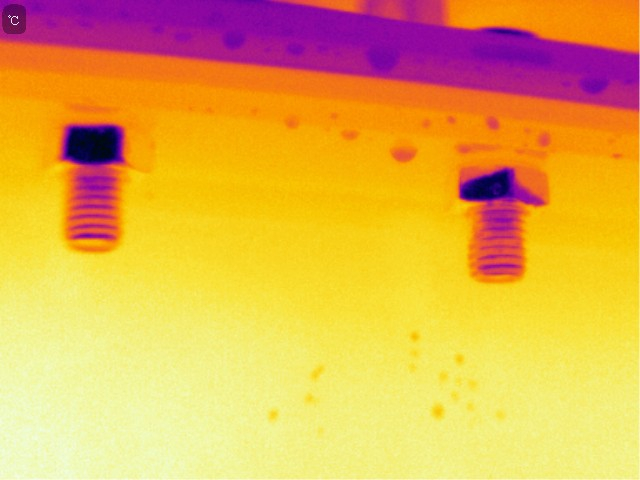Water: (367, 45, 406, 74), (576, 71, 613, 98), (385, 138, 418, 167), (218, 28, 248, 54), (279, 112, 307, 133), (337, 126, 363, 148), (481, 113, 506, 135), (530, 128, 553, 151), (283, 40, 306, 61), (415, 115, 437, 134)
